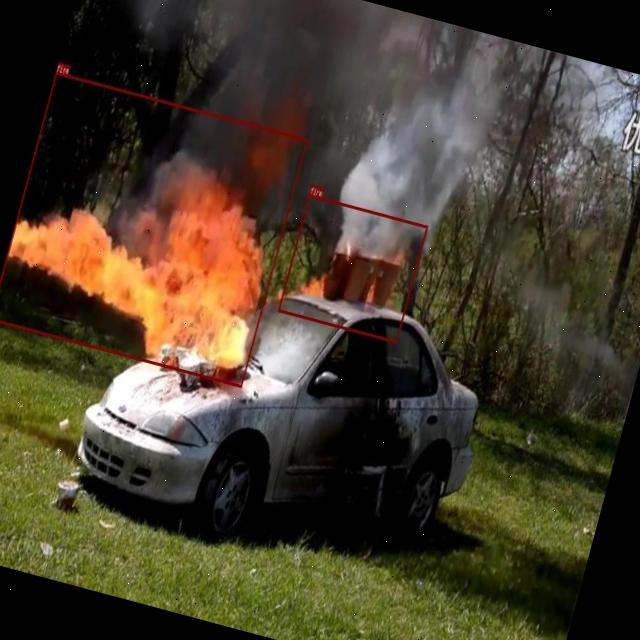fire: (0, 71, 307, 387), (277, 192, 427, 342)
